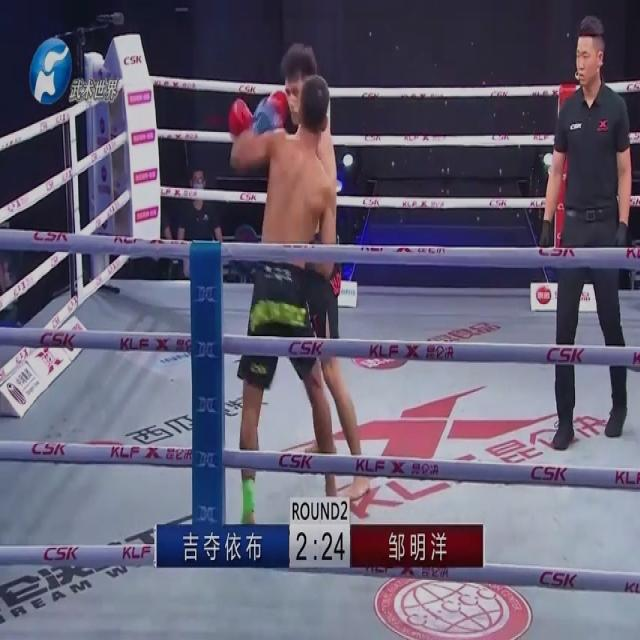fight: (227, 34, 364, 534)
non-fight: (534, 11, 638, 450)
